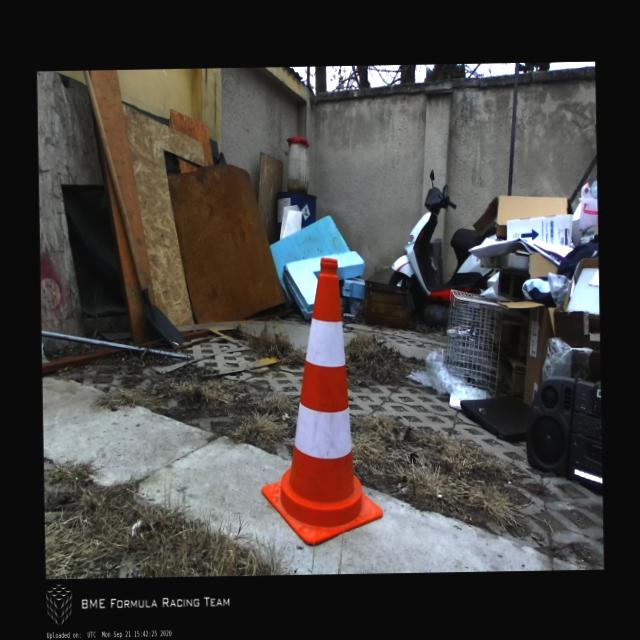large_orange_cone: (258, 256, 383, 542)
